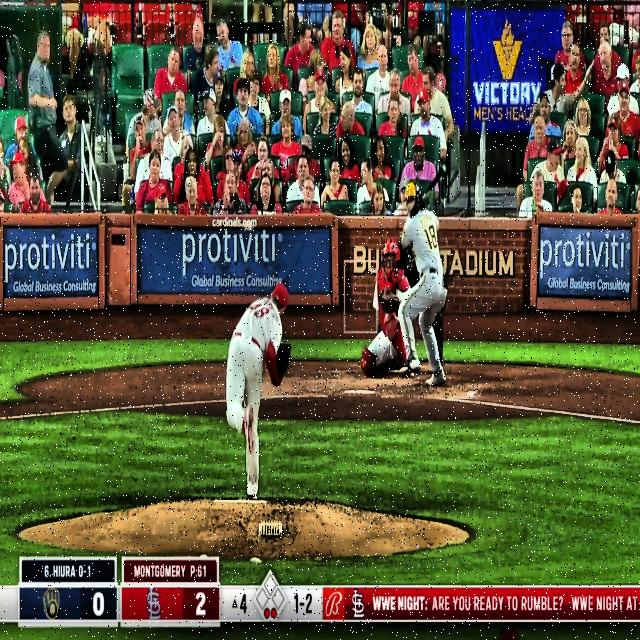baseball: (243, 214, 256, 238)
